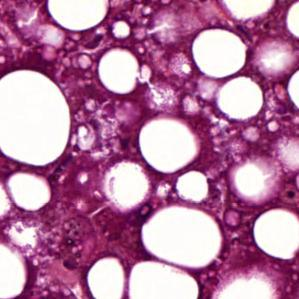steatosis: (140, 120, 203, 172), (191, 24, 250, 78), (98, 46, 142, 96), (218, 81, 268, 121)
